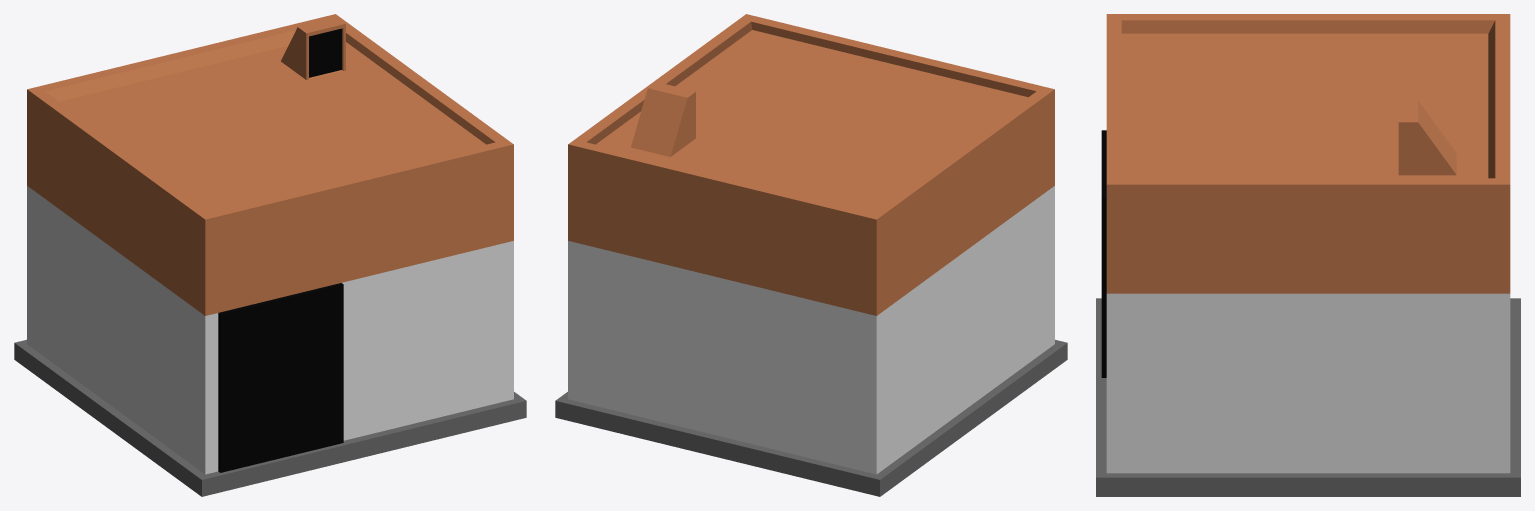
The model's file is Warehouse.fbx.
The picture shows the model from 3 angles, left to right: view 1: azimuth 30°, elevation 25°; view 2: azimuth 150°, elevation 25°; view 3: azimuth 270°, elevation 25°; orthographic projection. The views are drawn at different scales.
Parts seen in each view (by area): view 1: Warehouse; view 2: Warehouse; view 3: Warehouse.
Boxes of the visible parts, x1,y1,x2,y2 form: Warehouse: [14, 14, 526, 496]; Warehouse: [555, 14, 1067, 496]; Warehouse: [1096, 14, 1520, 496].
Size of the model in its own units: 400 by 362 by 400.
